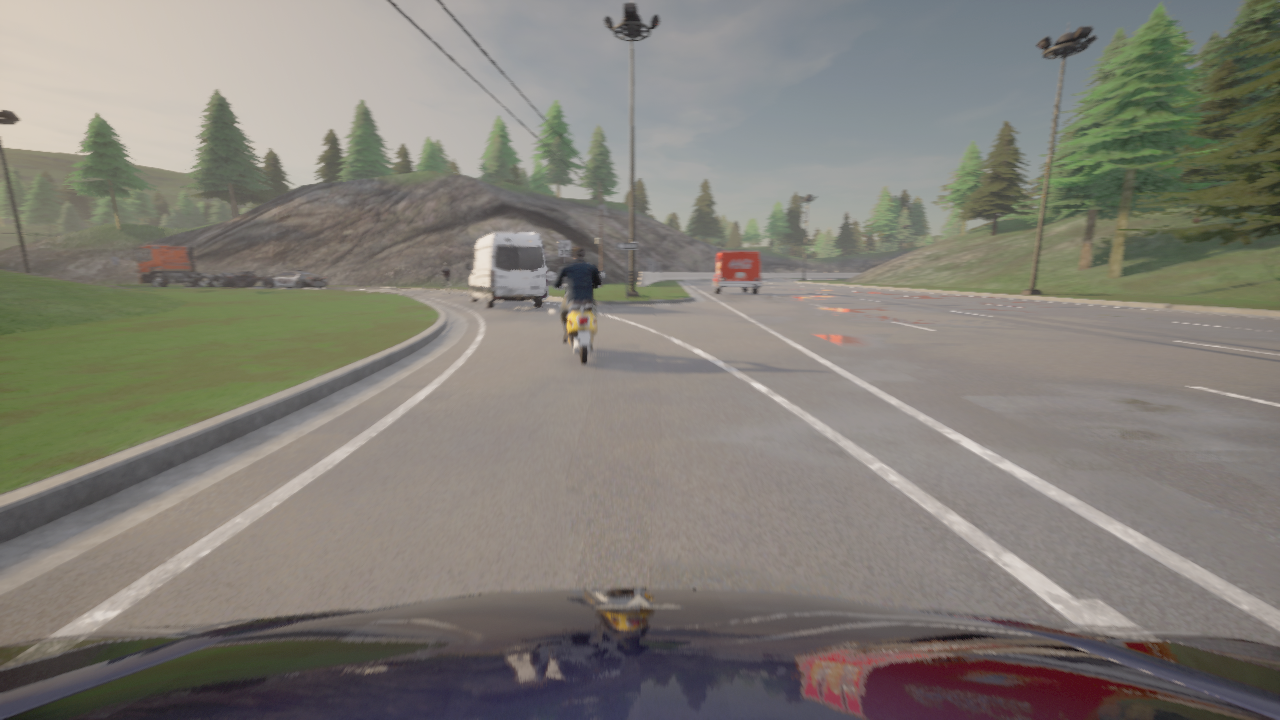cyclist: (0, 588, 1279, 719), (465, 232, 548, 308), (548, 271, 605, 364), (137, 245, 261, 287), (711, 251, 762, 294), (262, 269, 328, 288), (441, 281, 451, 294)
